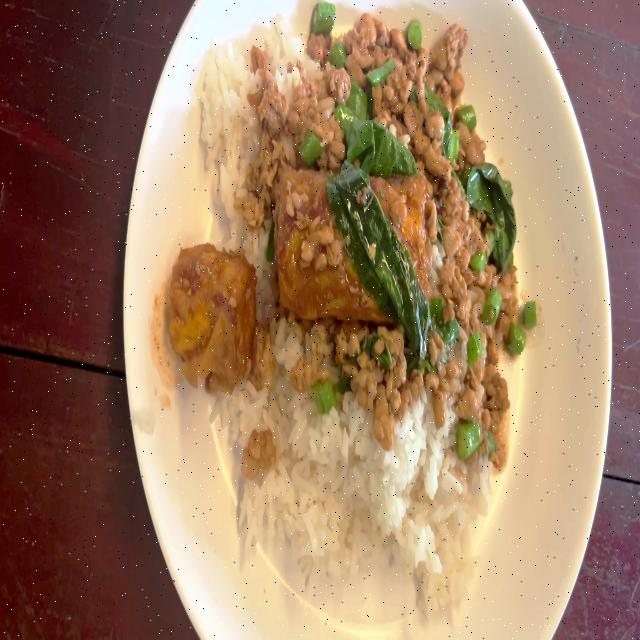fried_tofo: (274, 174, 426, 310), (175, 240, 246, 380)
minced_pork: (257, 17, 484, 175), (422, 171, 523, 459), (262, 321, 436, 424)
rice: (264, 425, 492, 599), (201, 36, 245, 228)
stir_fried_basil: (172, 0, 526, 633)
